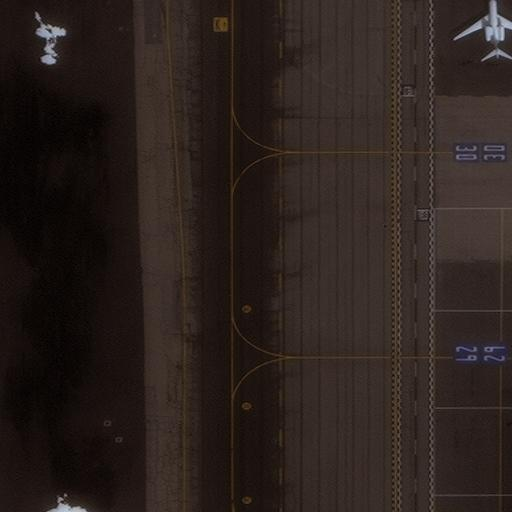Medium Civil Transport: (452, 0, 511, 57)
